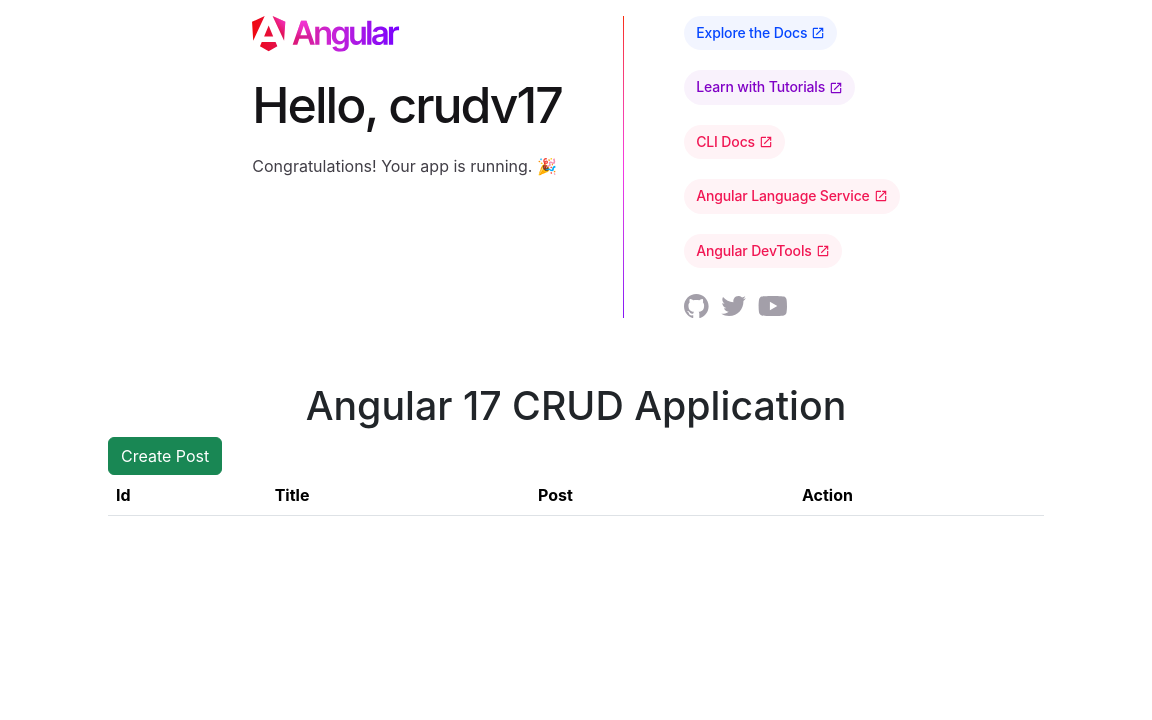
Post Page Tests › Should navigate to create post page on click of create post button
Click the link to "/post/create/": (165, 456) [108,437,222,475]
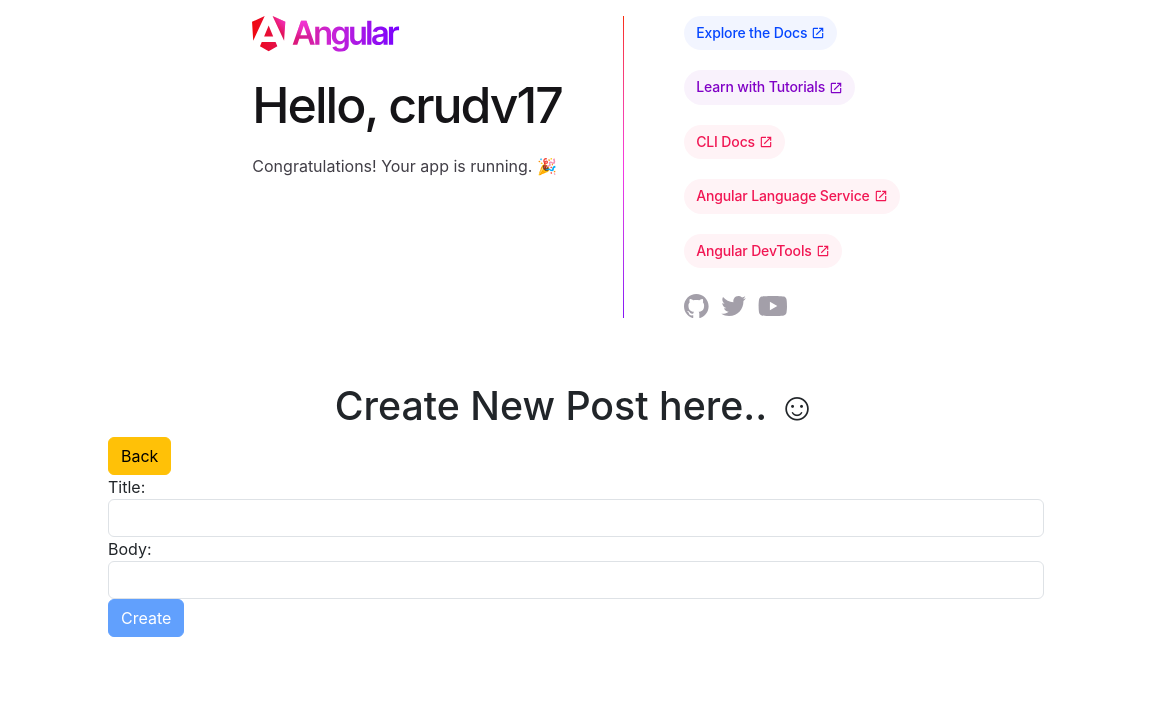
Now the form is shown, box [108,475,1044,637]
Now the field with id "title" is shown, box [108,499,1044,537]
Now the field with id "body" is shown, box [108,561,1044,599]
